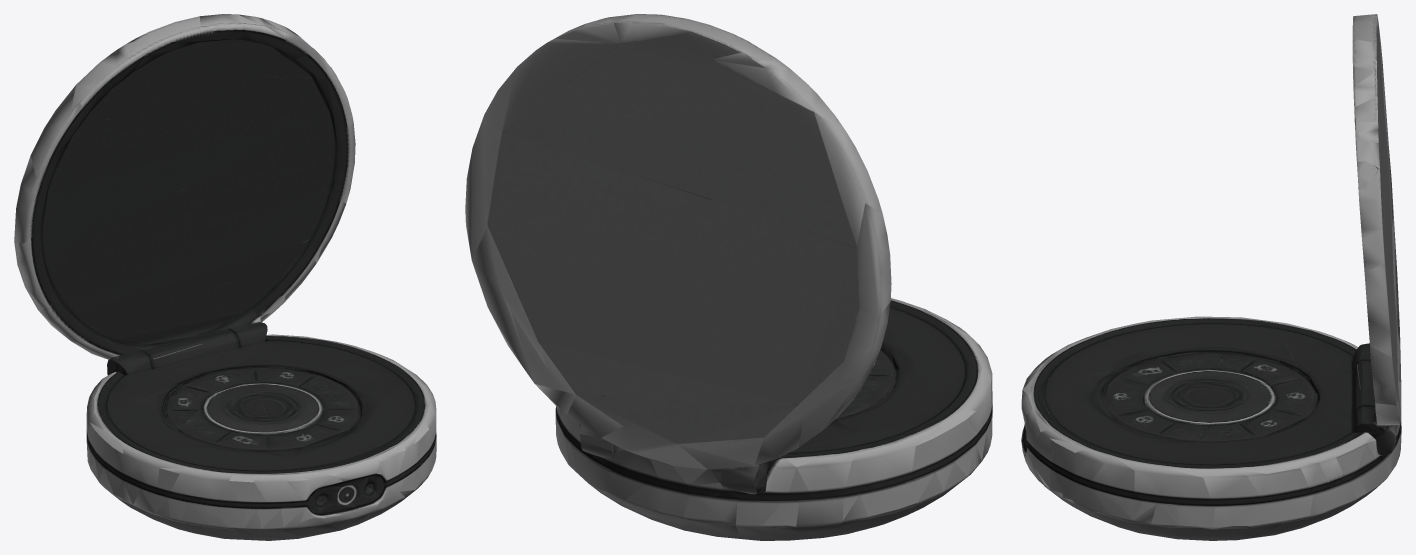
Rendered from hololink.glb.
3 renders of one model, left to right at view 1: azimuth 30°, elevation 25°; view 2: azimuth 150°, elevation 25°; view 3: azimuth 270°, elevation 25°, orthographic. The views are drawn at different scales.
Visible parts, largest first — view 1: mesh_node; view 2: mesh_node; view 3: mesh_node.
Part boxes in pixels (x1,y1,x2,y2): mesh_node: [14, 14, 436, 540]; mesh_node: [465, 14, 992, 540]; mesh_node: [1021, 14, 1401, 540].
Size of the model in its own units: 1.61 by 1.9 by 1.47.
1 material, 1 textured.
